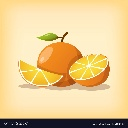orange: (36, 30, 85, 89), (16, 58, 65, 89)
